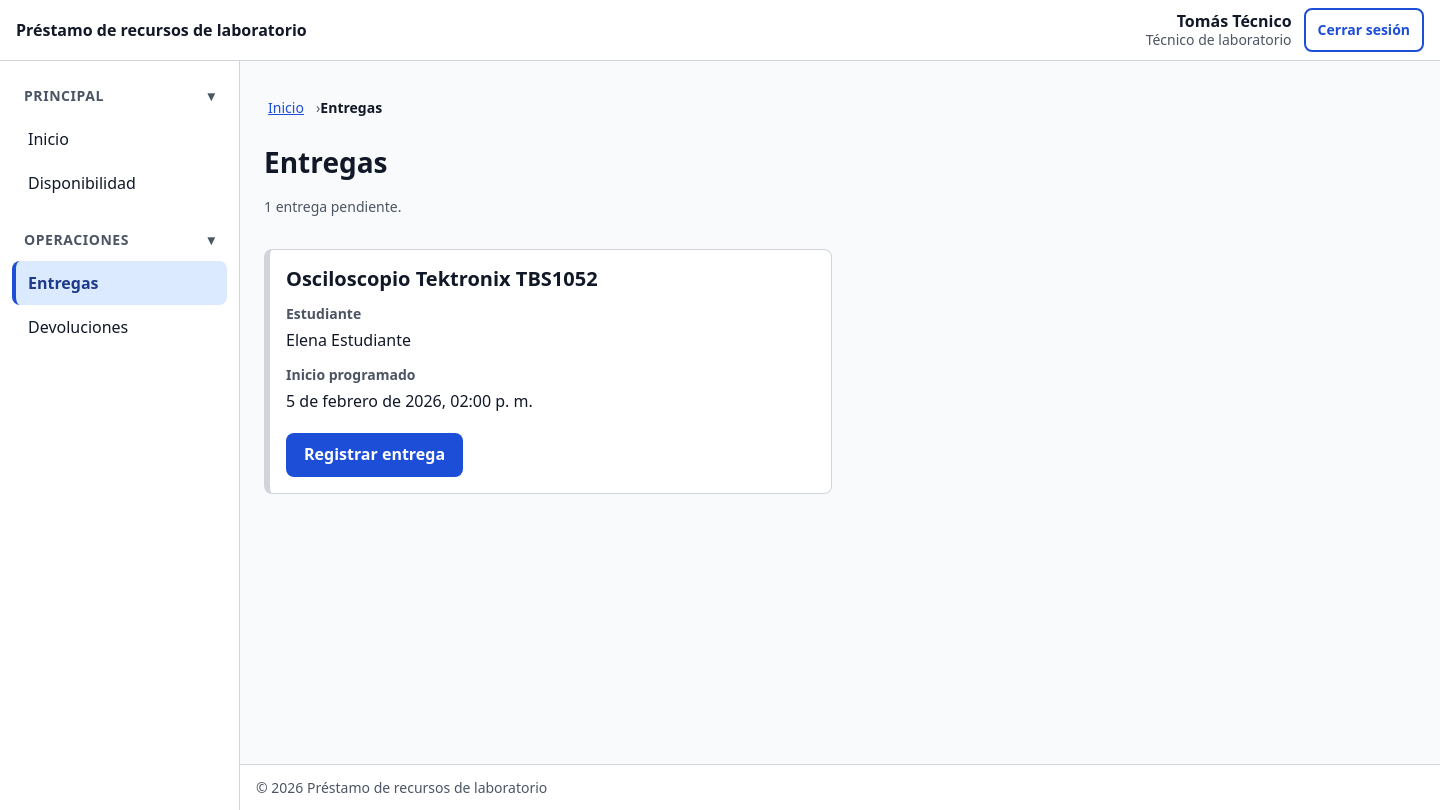
entregas pendientes (Req 12) › Dañado sin observaciones muestra el error y no registra la entrega (Req 12.8)
Click the button with aria-label "Registrar entrega:" at (375, 455), box [286, 433, 463, 477]
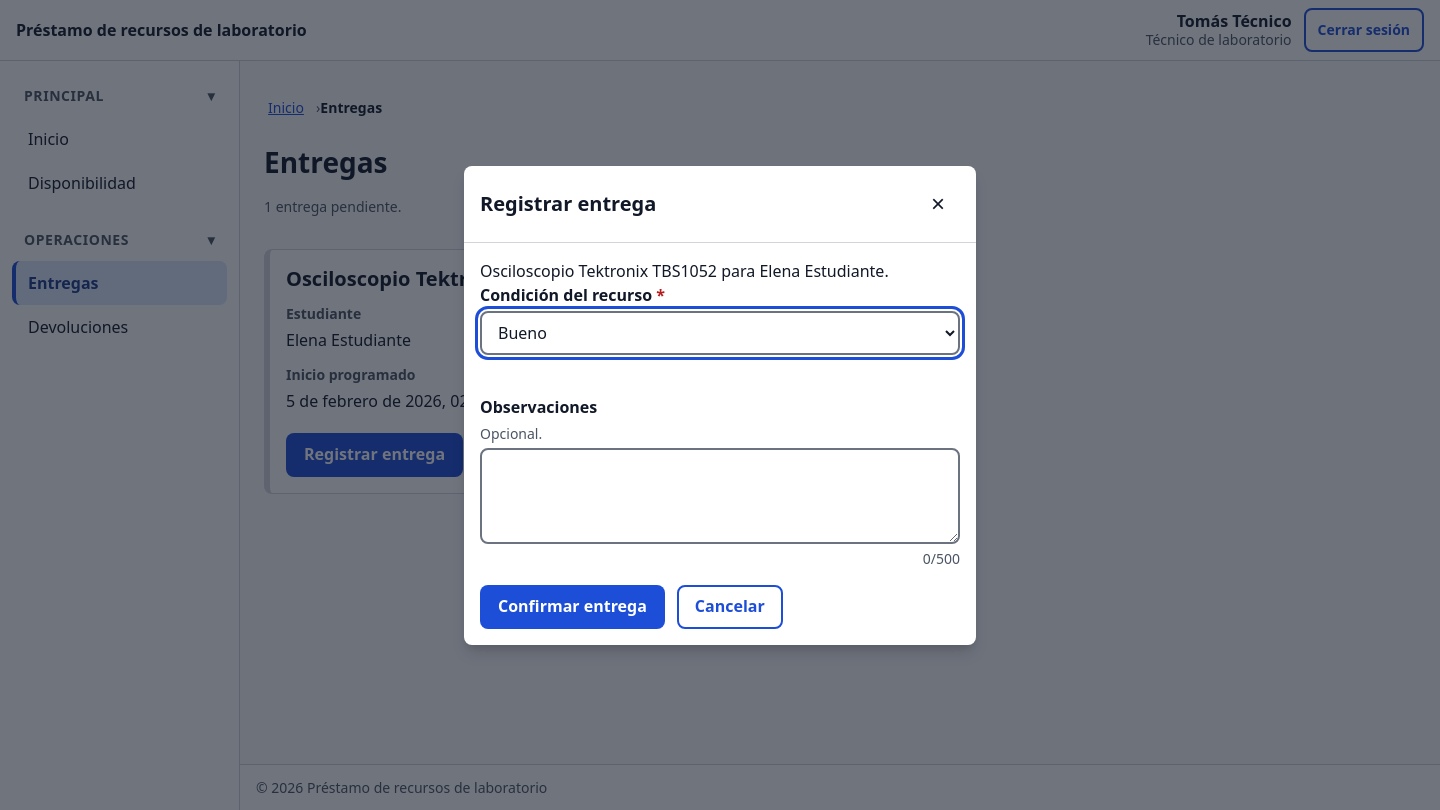
Select "Dañado" in the dropdown labelled "Condición del recurso *" at (720, 332), box [480, 310, 960, 354]
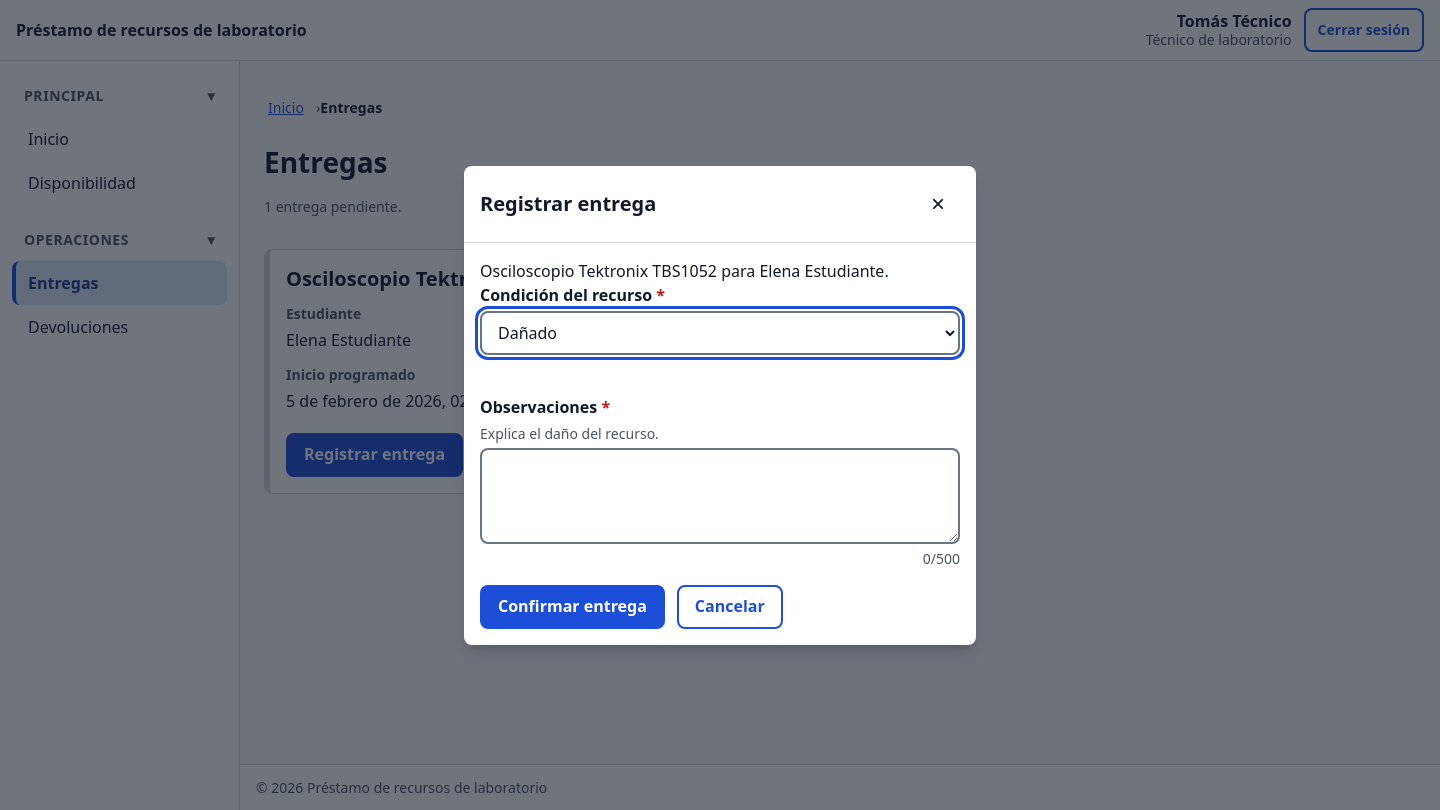
Click the button "Confirmar entrega" at (572, 606), box [480, 584, 665, 628]
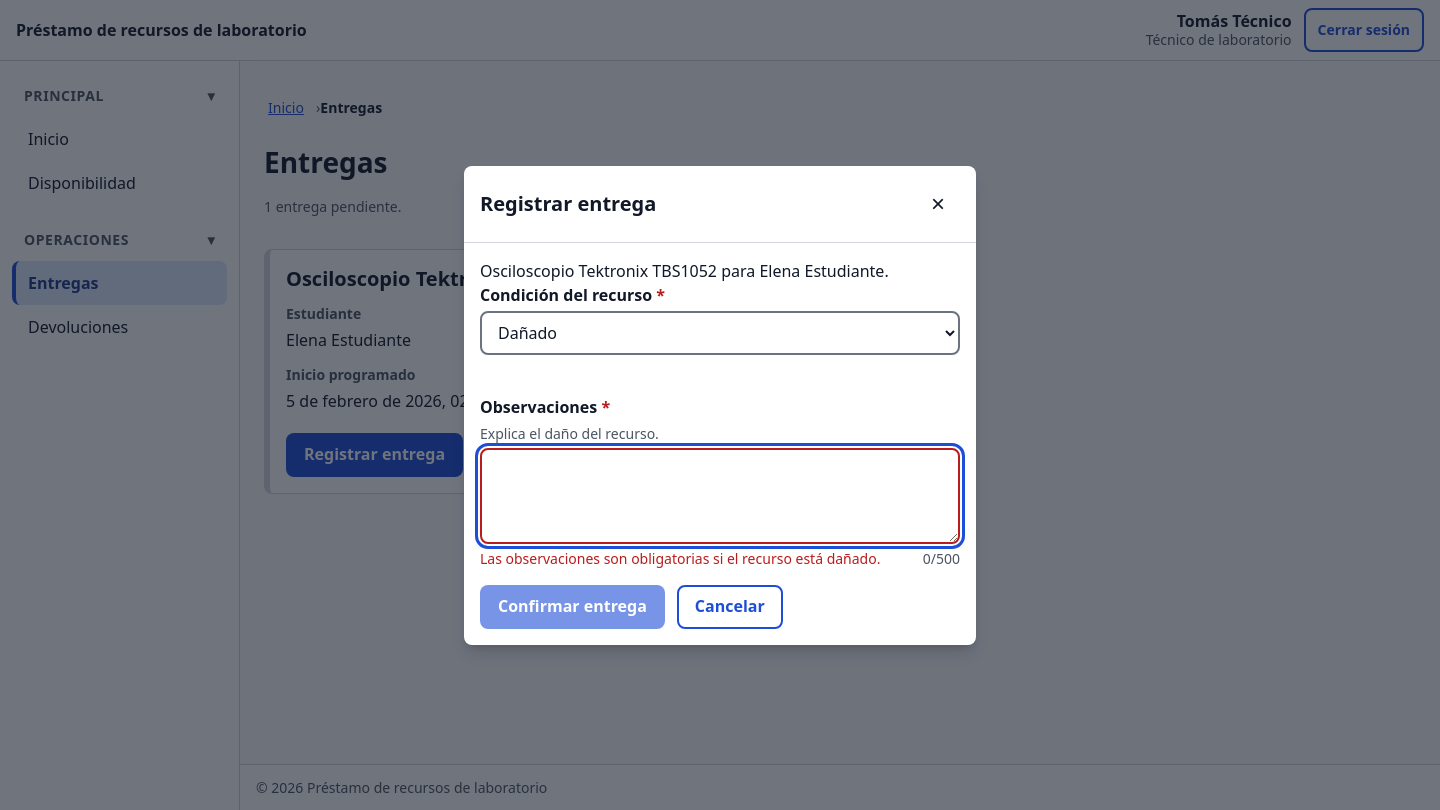
Expected: the text "Las observaciones son obligatorias si el recurso está dañado." is shown, [480, 548, 880, 568]
